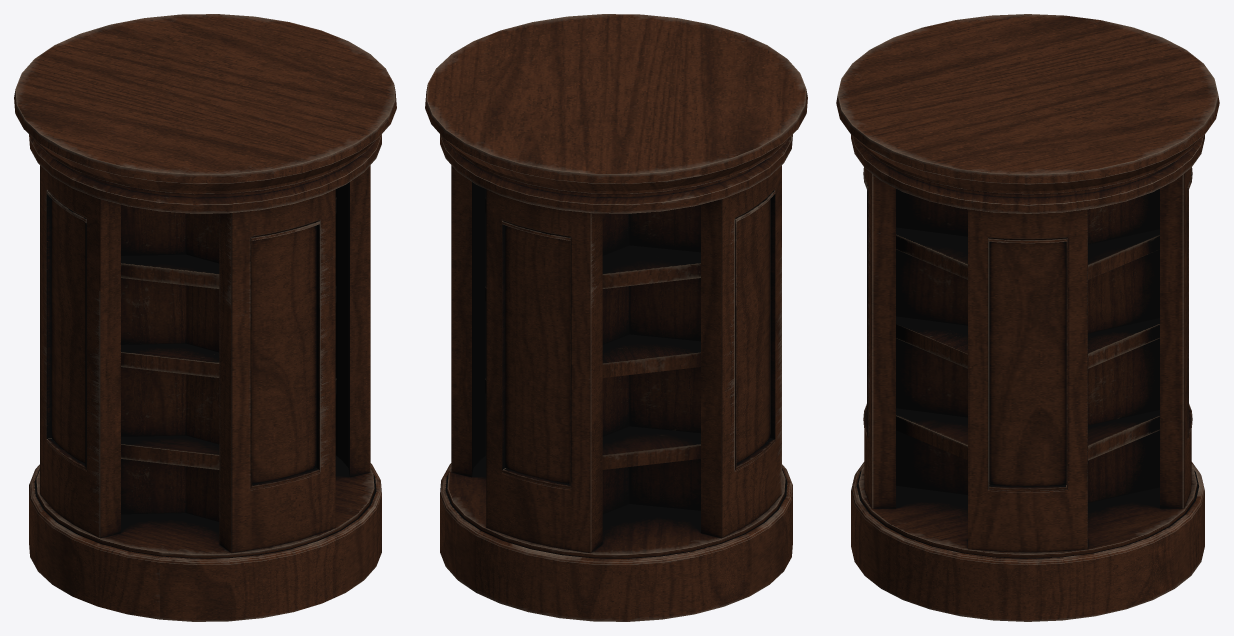
File: circular_wooden_bookshelf.glb
The picture shows the model from 3 angles, left to right: view 1: azimuth 30°, elevation 25°; view 2: azimuth 150°, elevation 25°; view 3: azimuth 270°, elevation 25°; orthographic projection.
Visible parts, largest first — view 1: Outer_Bookshelf_TB, Outer_Bookshelf, Inner_Bookshelf; view 2: Outer_Bookshelf_TB, Outer_Bookshelf, Inner_Bookshelf; view 3: Outer_Bookshelf_TB, Outer_Bookshelf, Inner_Bookshelf.
Part boxes in pixels (x1,y1,x2,y2): Outer_Bookshelf_TB: (14, 14, 396, 621); Outer_Bookshelf: (40, 165, 370, 552); Inner_Bookshelf: (121, 197, 336, 521); Outer_Bookshelf_TB: (425, 14, 807, 621); Outer_Bookshelf: (451, 165, 781, 552); Inner_Bookshelf: (485, 197, 700, 513); Outer_Bookshelf_TB: (836, 14, 1219, 621); Outer_Bookshelf: (863, 167, 1192, 552); Inner_Bookshelf: (896, 188, 1159, 502).
Bounding box in the file's own units: 0.0217 × 0.0283 × 0.0217.
Materials: 3 (3 with a texture image).
